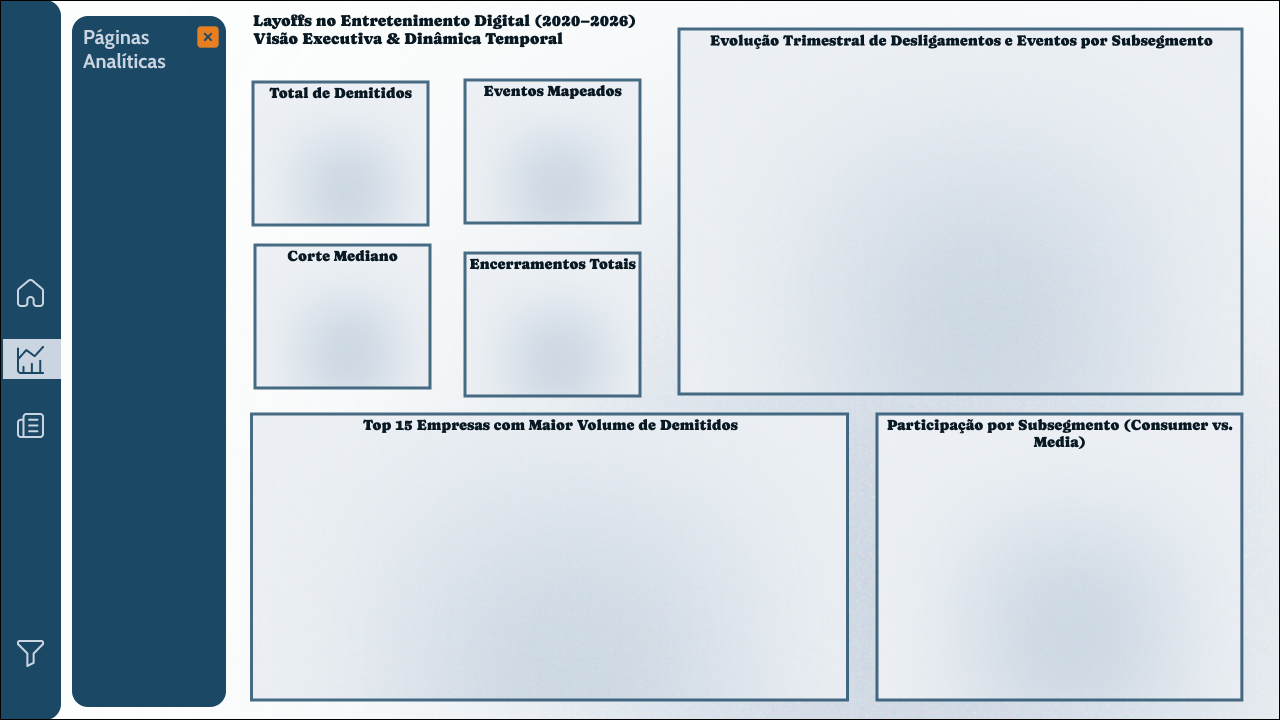

Layout of this report page (visuals, bound fields, positions):
{"tool":"powerbi","page":{"name":"Dinâmica Temporal","canvas":[1920,1080],"ordinal":1},"visuals":[{"type":"group","id":"g1","title":"Padrão","box":[0,0,1920,1080],"z":0},{"type":"image","box":[0,0,1920,1080],"z":0,"group":"g1"},{"type":"cardVisual","fields":{"Data":["Sum(vw_evolucao_temporal.total_laid_off)"]},"box":[120,144,280,200],"z":1000,"group":"g1"},{"type":"cardVisual","fields":{"Data":["layoffs.Eventos_Mapeados"]},"box":[504,144,280,200],"z":2000,"group":"g1"},{"type":"cardVisual","fields":{"Data":["Median(layoffs.percentage_laid_off)"]},"box":[120,384,280,200],"z":3000,"group":"g1"},{"type":"cardVisual","fields":{"Data":["layoffs.Encerramentos_Totais"]},"box":[504,384,280,200],"z":4000,"group":"g1"},{"type":"actionButton","title":"Painel Filtros","box":[7,945,72,72],"z":4000},{"type":"lineStackedColumnComboChart","fields":{"Category":["layoffs.Periodo_Trimestre"],"Series":["layoffs.industry"],"Y":["Sum(layoffs.total_laid_off)"],"Y2":["layoffs.Eventos_Mapeados"]},"box":[888,96,960,456],"z":5000,"group":"g1"},{"type":"actionButton","title":"Painel Navegação","box":[7,505,72,72],"z":5000},{"type":"pageNavigator","title":"Sobre o Case","box":[12,608,60,60],"z":6000},{"type":"clusteredBarChart","fields":{"Category":["layoffs.company"],"Y":["Sum(layoffs.total_laid_off)"]},"box":[120,672,1032,384],"z":6000,"group":"g1"},{"type":"pageNavigator","title":"Home","box":[22,418,60,60],"z":7000},{"type":"donutChart","fields":{"Category":["layoffs.industry"],"Y":["Sum(layoffs.total_laid_off)"]},"box":[1224,672,624,384],"z":7000,"group":"g1"}]}

Visuals, with their boxes on the page's 1920x1080 design canvas (x1, y1, x2, y2). These are canvas units, not pixel positions in the 1280x720 screenshot, which may show the page scaled, cropped or inside an application window:
"Padrão" group: Rect(0, 0, 1920, 1080)
image: Rect(0, 0, 1920, 1080)
cardVisual - Sum(vw_evolucao_temporal.total_laid_off): Rect(120, 144, 400, 344)
cardVisual - layoffs.Eventos_Mapeados: Rect(504, 144, 784, 344)
cardVisual - Median(layoffs.percentage_laid_off): Rect(120, 384, 400, 584)
cardVisual - layoffs.Encerramentos_Totais: Rect(504, 384, 784, 584)
"Painel Filtros" actionButton: Rect(7, 945, 79, 1017)
lineStackedColumnComboChart - layoffs.Periodo_Trimestre x layoffs.industry: Rect(888, 96, 1848, 552)
"Painel Navegação" actionButton: Rect(7, 505, 79, 577)
"Sobre o Case" pageNavigator: Rect(12, 608, 72, 668)
clusteredBarChart - layoffs.company x Sum(layoffs.total_laid_off): Rect(120, 672, 1152, 1056)
"Home" pageNavigator: Rect(22, 418, 82, 478)
donutChart - layoffs.industry x Sum(layoffs.total_laid_off): Rect(1224, 672, 1848, 1056)
